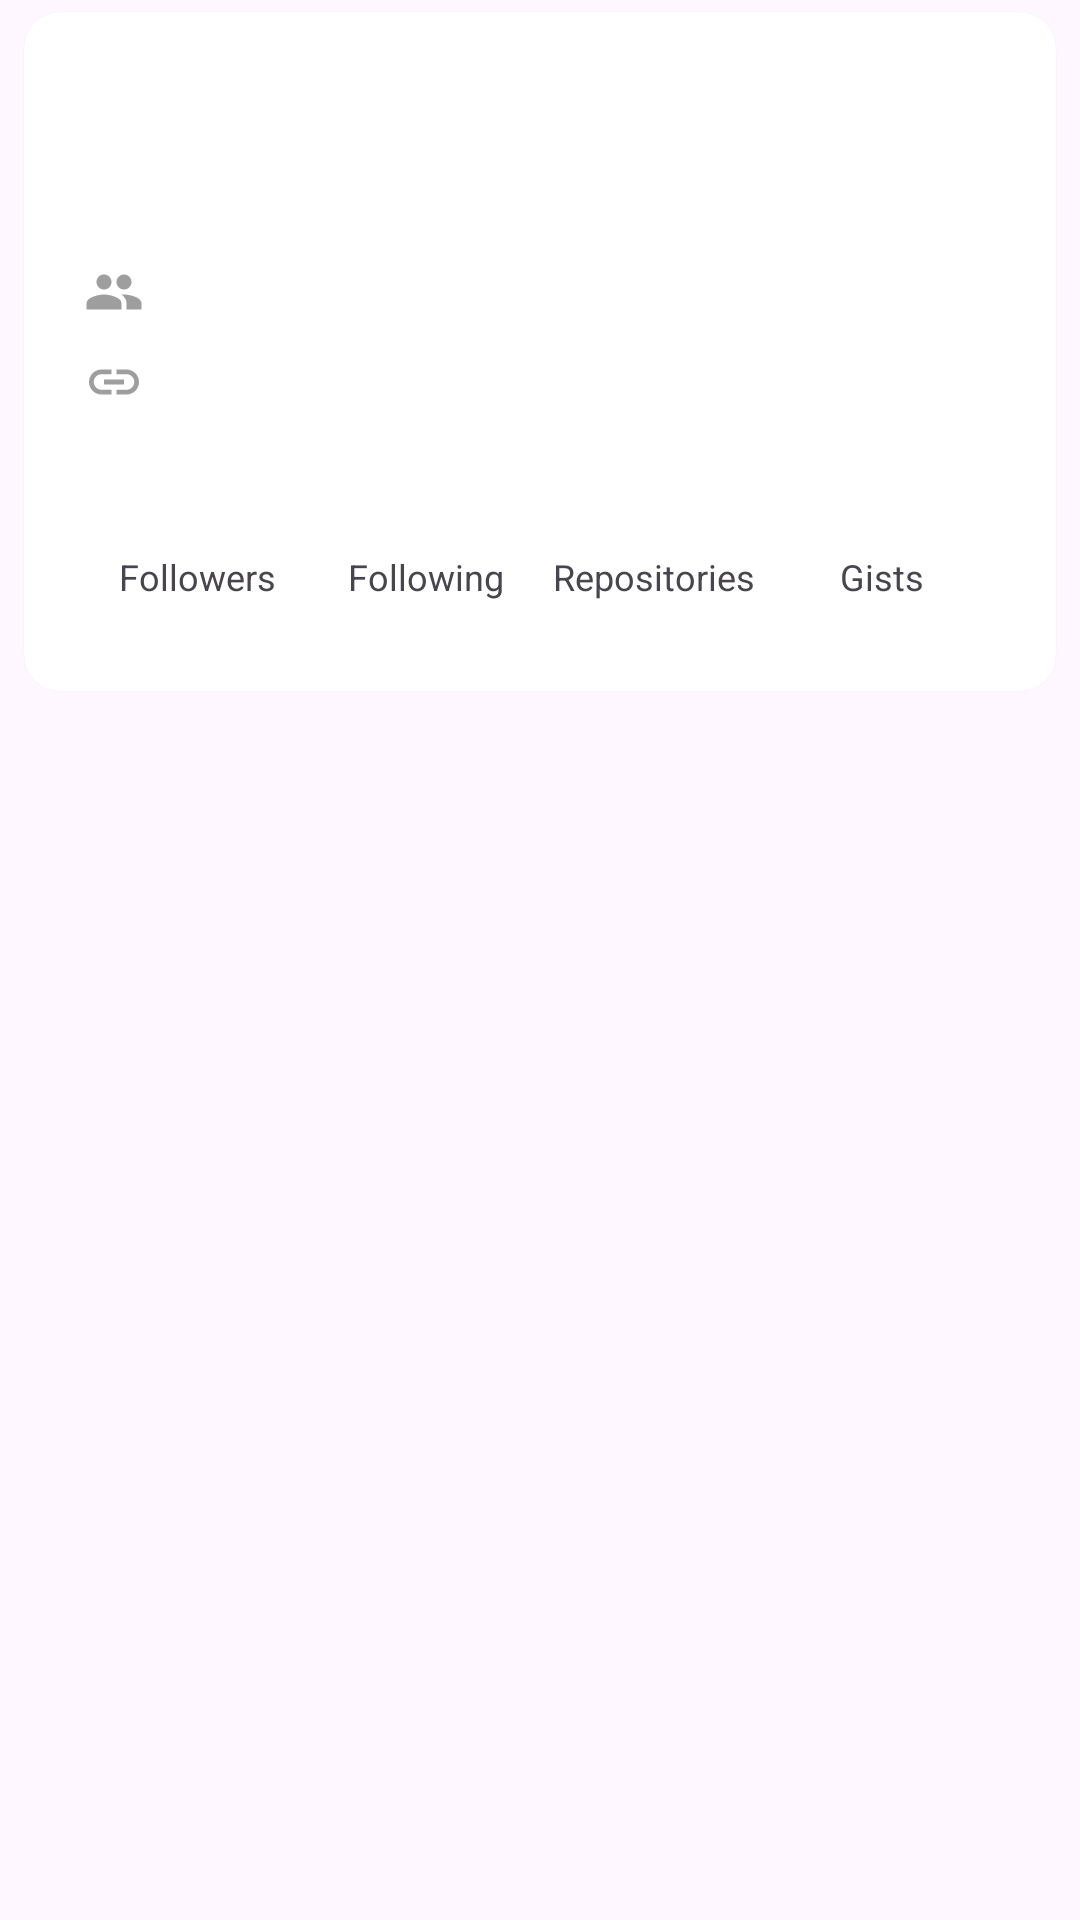

Icons on this 1080x1920 Android screen, each with its box as (x1, y1, x2, y2):
link: (89, 369, 139, 395)
